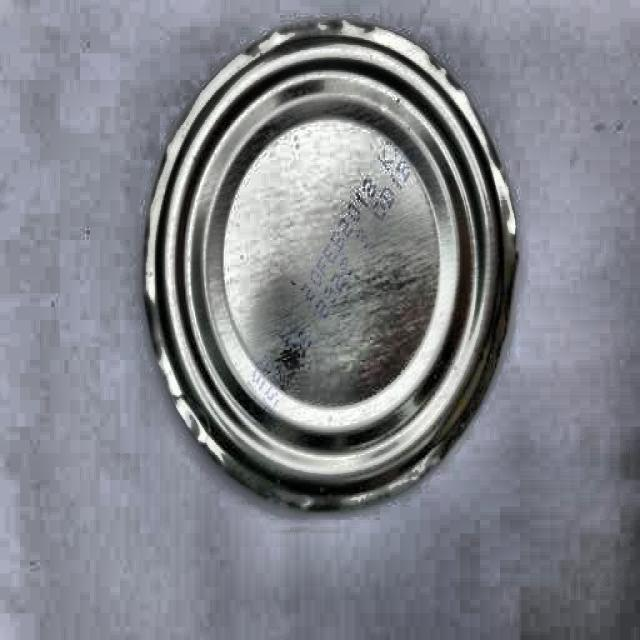metal: (143, 18, 522, 517)
